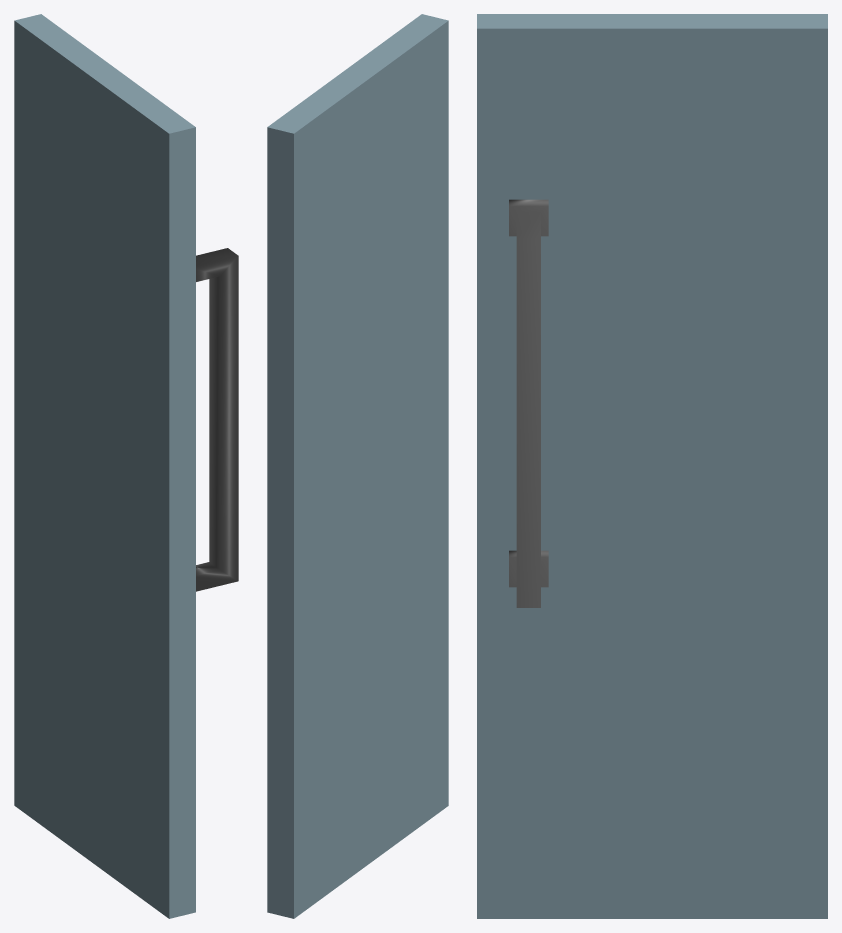
File: cabinet_Door.ver2.fbx
The picture shows the model from 3 angles, left to right: view 1: azimuth 30°, elevation 25°; view 2: azimuth 150°, elevation 25°; view 3: azimuth 270°, elevation 25°; orthographic projection. The views are drawn at different scales.
Visible parts, largest first — view 1: Cube.006; view 2: Cube.006; view 3: Cube.006.
Boxes of the visible parts, x1,y1,x2,y2 form: Cube.006: (14, 14, 238, 918); Cube.006: (267, 14, 448, 918); Cube.006: (477, 14, 827, 918).
Size of the model in its own units: 64.82 by 560 by 200.
